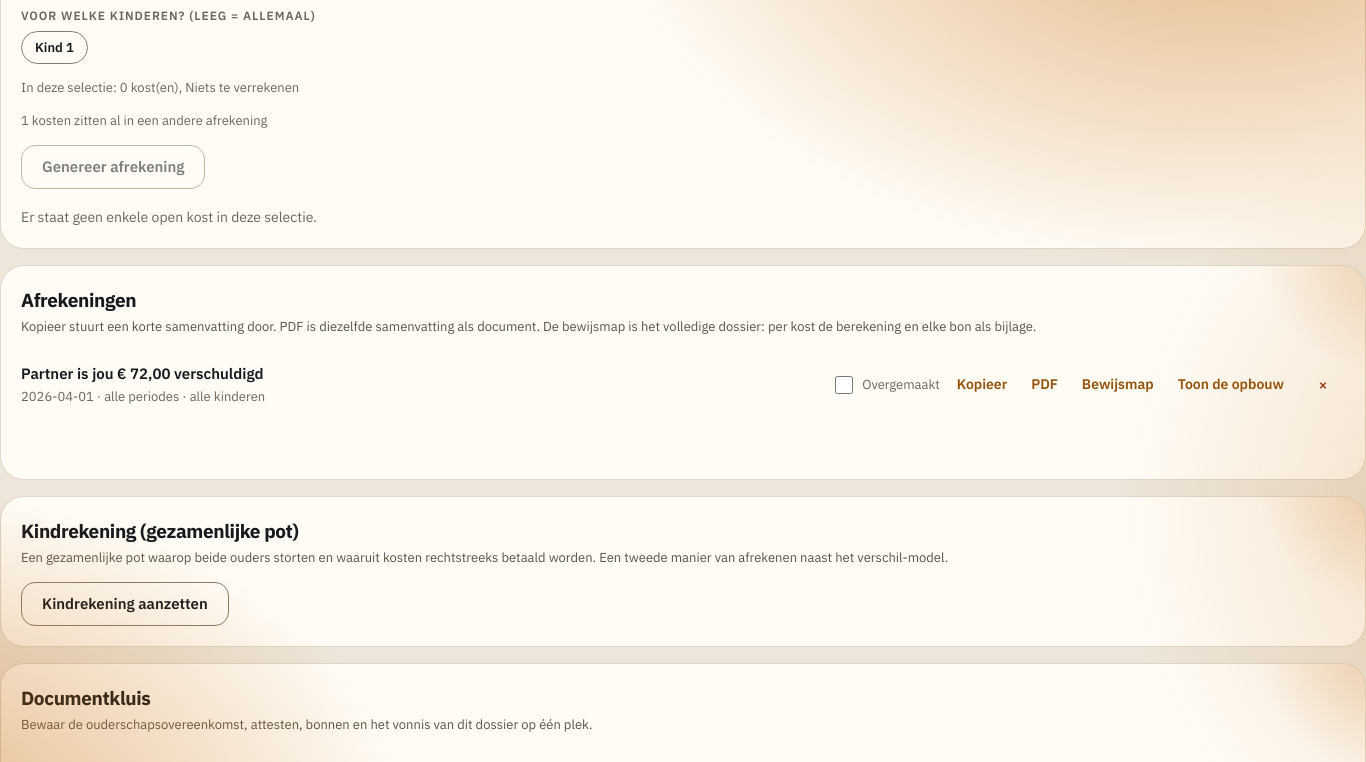
DossierSectie — een afrekening verwijderen › zwijgt over heropenen zolang de afrekening niets dichtzette
The image size is (1366, 762).
(page scrolled)
Step 1. Click the button named "Verwijder afrekening 1 apr 2026" → (1323, 384), box left=1301, top=362, right=1345, bottom=406
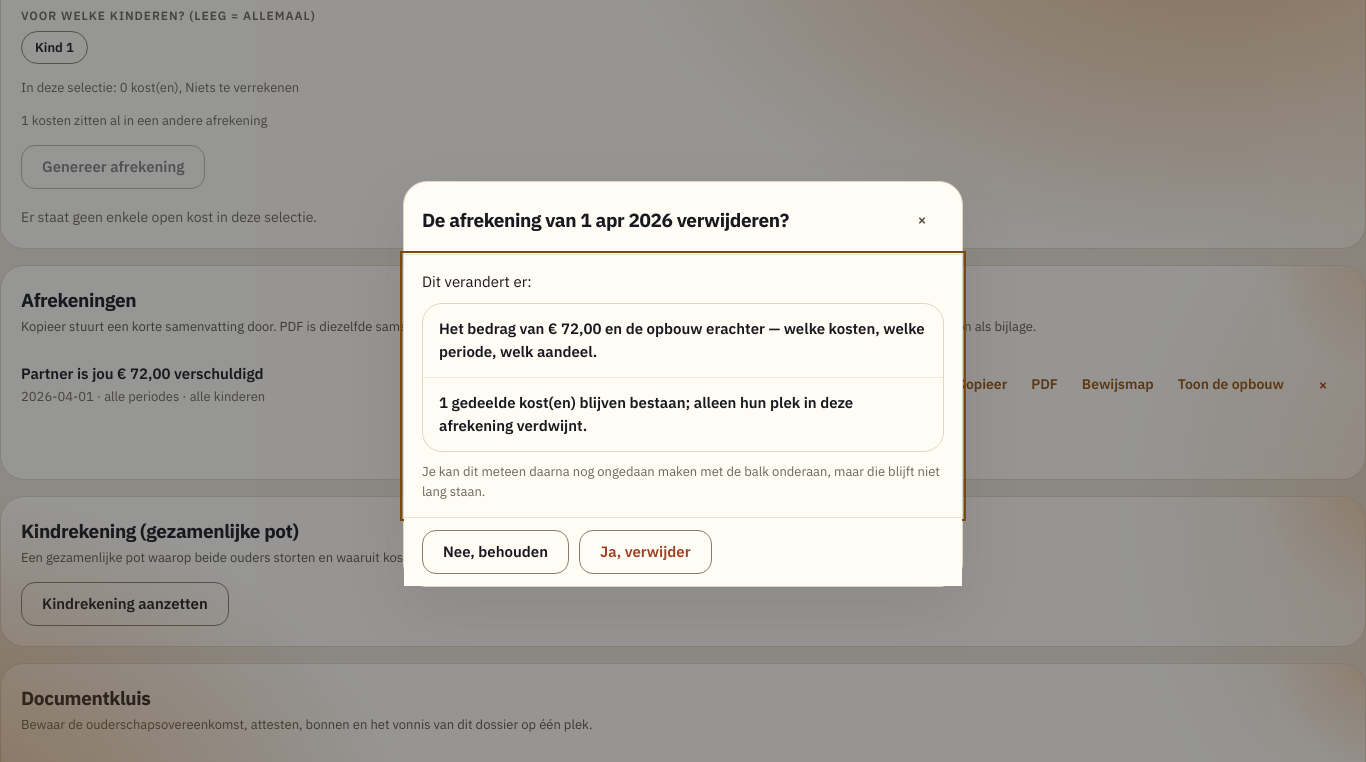
expect the text "Het bedrag van" is shown: met, box left=439, top=319, right=925, bottom=361
